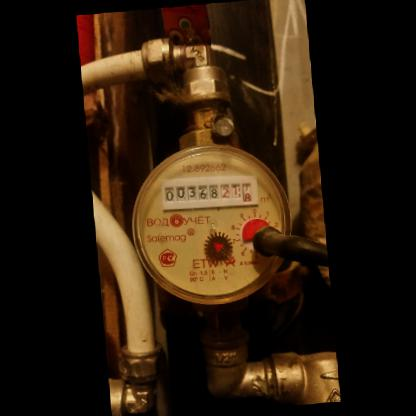digital_screen: (157, 174, 219, 213)
